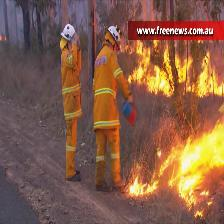fire: (128, 116, 224, 221), (126, 41, 192, 98), (186, 51, 224, 97)
